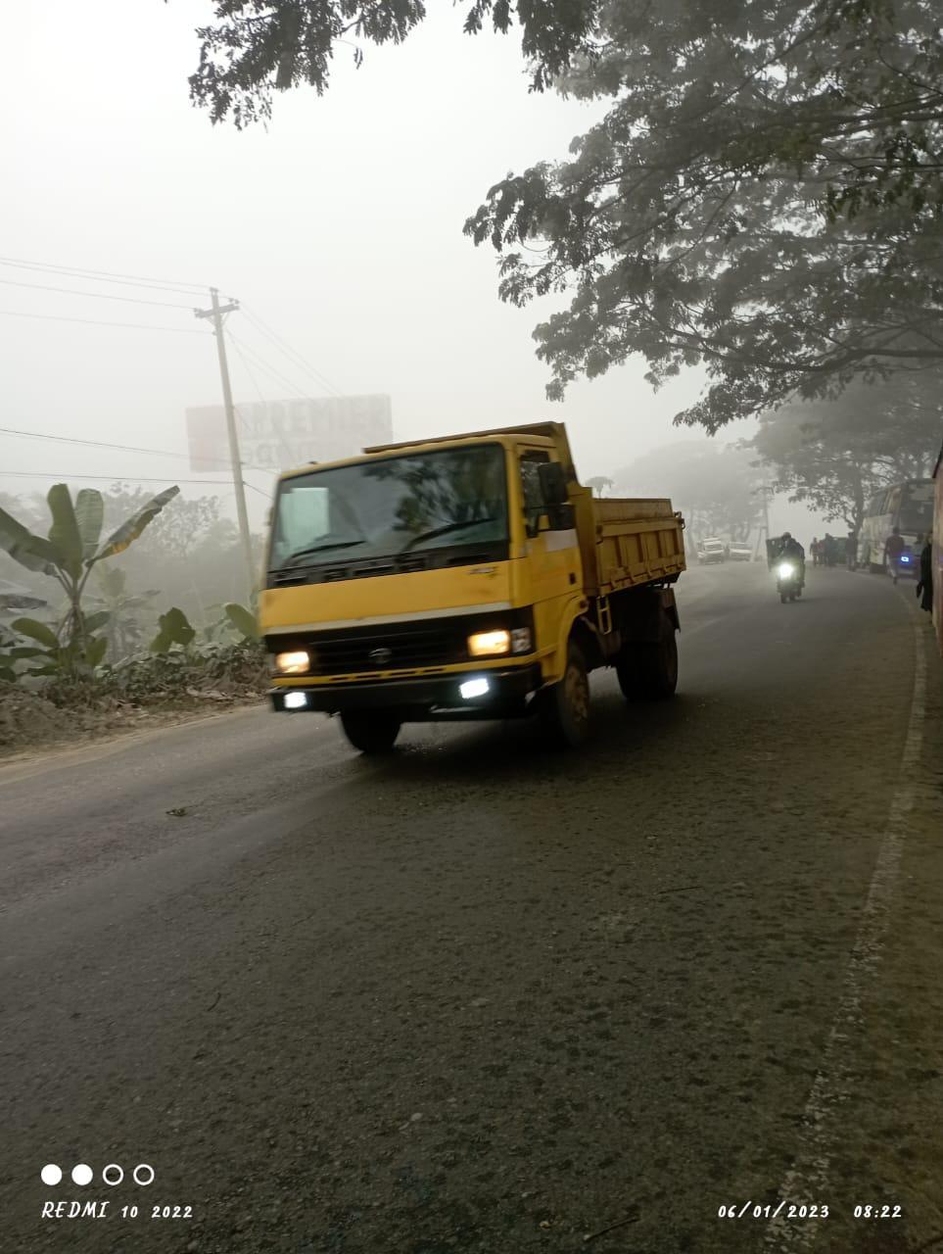Bike: (761, 524, 817, 604)
Bus: (844, 470, 924, 576)
Truck: (244, 415, 701, 749)
